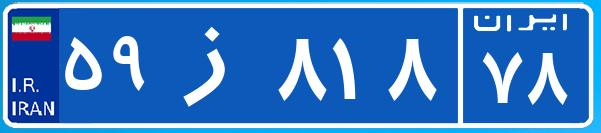1: (330, 28, 385, 110)
5: (57, 26, 110, 107)
7: (475, 38, 525, 113)
8: (385, 28, 445, 110), (273, 28, 330, 110), (525, 38, 570, 115)
9: (110, 28, 158, 105)
ز: (158, 15, 273, 115)
